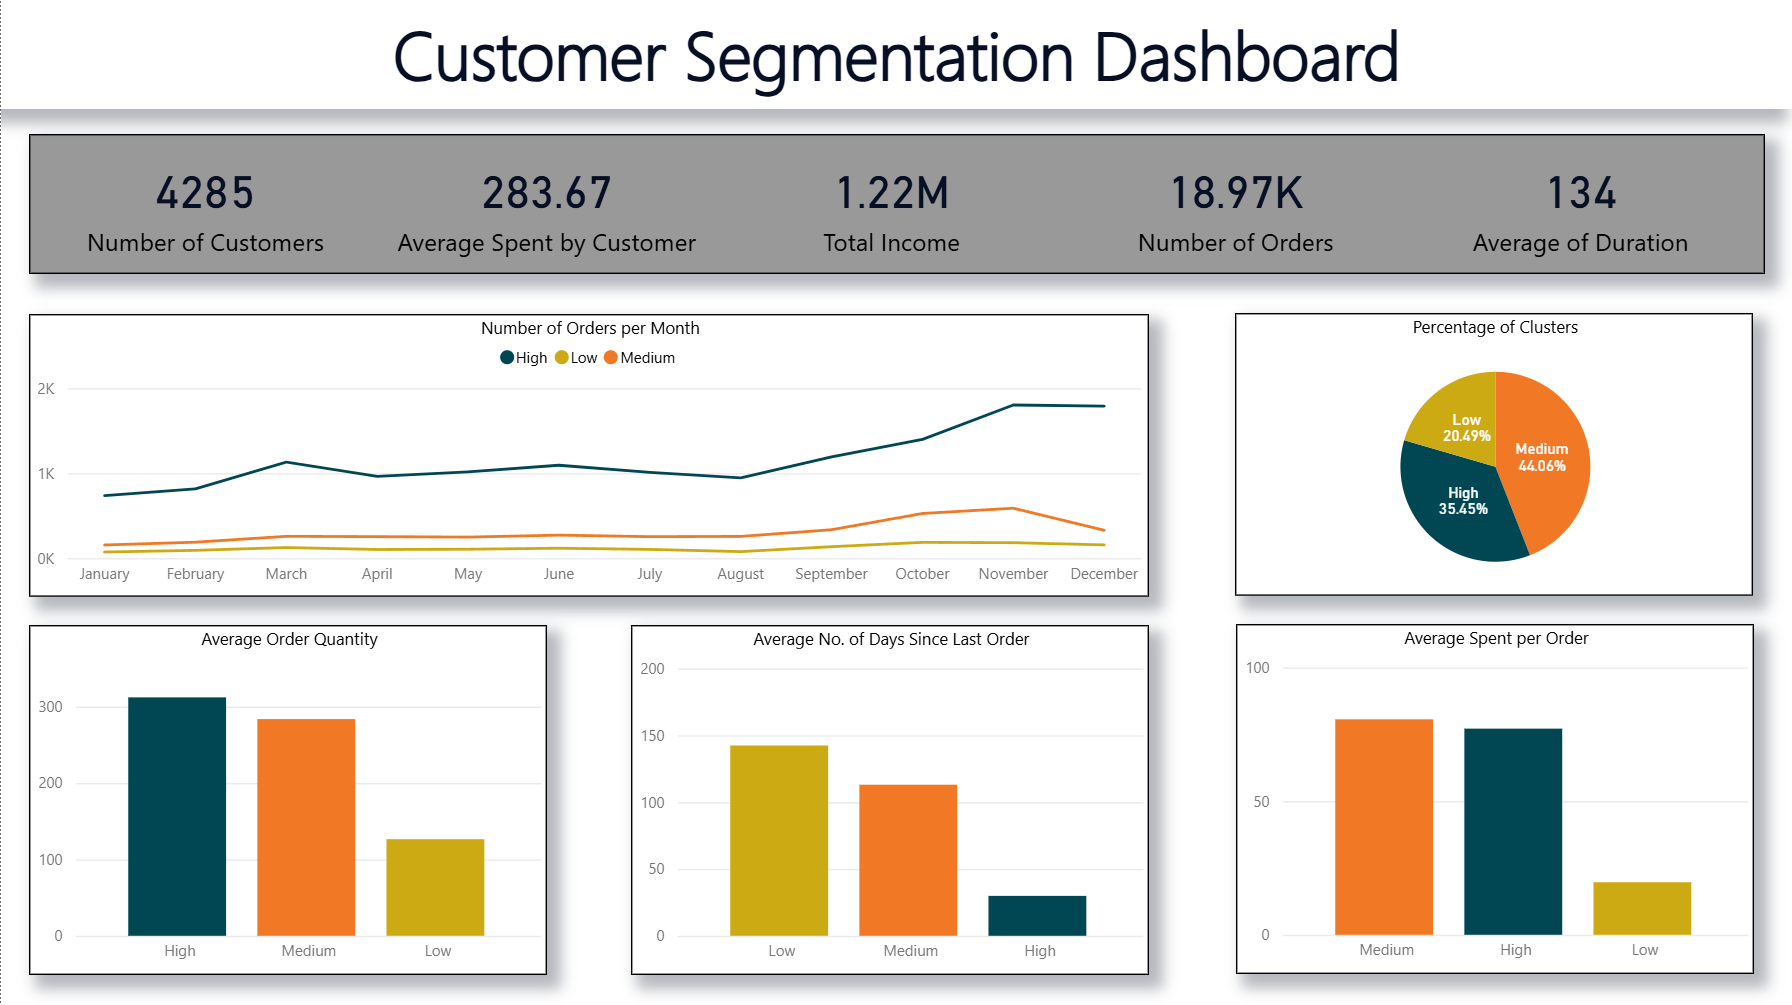

The dashboard page shown, as its layout file describes it:
{"tool":"powerbi","page":{"name":"Segmentation Overview","canvas":[1280,720],"ordinal":0},"visuals":[{"type":"shape","box":[20,96,1240,100],"z":0},{"type":"textbox","box":[0,0,1280,78],"z":1000},{"type":"card","title":"Number of Customers","fields":{"Values":["CountNonNull(customers.Customer ID)"]},"box":[20,96,252,100],"z":2000},{"type":"card","title":"Number of Customers","fields":{"Values":["Avg(customers.TotalSpend)"]},"box":[266,96,248,100],"z":3000},{"type":"card","title":"Number of Customers","fields":{"Values":["Sum(customers.TotalSpend)"]},"box":[512,96,248,100],"z":4000},{"type":"card","title":"Number of Customers","fields":{"Values":["Count(orders.Invoice)"]},"box":[758,96,248,100],"z":5000},{"type":"card","title":"Number of Customers","fields":{"Values":["Avg(customers.Duration)"]},"box":[1004,96,248,100],"z":6000},{"type":"pieChart","title":"Percentage of Clusters","fields":{"Category":["customers.Value"],"Y":["CountNonNull(customers.Customer ID)"]},"box":[881.7,223.3,370,201.7],"z":7000},{"type":"columnChart","title":"Average No. of Days Since Last Order","fields":{"Y":["Avg(customers.Recency)"],"Category":["customers.Value"],"Series":["customers.Value"]},"box":[450,446.7,370,250],"z":8000},{"type":"columnChart","title":"Average Spent per Order","fields":{"Y":["Avg(customers.AvgSpendPerOrder)"],"Category":["customers.Value"],"Series":["customers.Value"]},"box":[882,446,370,250],"z":9000},{"type":"lineChart","title":"Number of Orders per Month","fields":{"Category":["orders.InvoiceDate.Variation.Date Hierarchy.Month"],"Y":["Count(orders.Invoice)"],"Series":["customers.Value"]},"box":[20,224,800,202],"z":10000},{"type":"columnChart","title":"Average Order Quantity","fields":{"Category":["customers.Value"],"Y":["Avg(customers.AvgQuantityPerOrder)"],"Series":["customers.Value"]},"box":[20,446.7,370,250],"z":11000}]}

Visuals, with their boxes in screenshot pixels (x1, y1, x2, y2), scaled from the page's 1280x720 canvas onto the 1792x1005 screenshot:
shape: {"x1": 28, "y1": 134, "x2": 1764, "y2": 274}
textbox: {"x1": 0, "y1": 0, "x2": 1791, "y2": 109}
"Number of Customers" card: {"x1": 28, "y1": 134, "x2": 381, "y2": 274}
"Number of Customers" card: {"x1": 372, "y1": 134, "x2": 720, "y2": 274}
"Number of Customers" card: {"x1": 717, "y1": 134, "x2": 1064, "y2": 274}
"Number of Customers" card: {"x1": 1061, "y1": 134, "x2": 1408, "y2": 274}
"Number of Customers" card: {"x1": 1406, "y1": 134, "x2": 1753, "y2": 274}
"Percentage of Clusters" pieChart: {"x1": 1234, "y1": 312, "x2": 1752, "y2": 593}
"Average No. of Days Since Last Order" columnChart: {"x1": 630, "y1": 624, "x2": 1148, "y2": 972}
"Average Spent per Order" columnChart: {"x1": 1235, "y1": 623, "x2": 1753, "y2": 972}
"Number of Orders per Month" lineChart: {"x1": 28, "y1": 313, "x2": 1148, "y2": 595}
"Average Order Quantity" columnChart: {"x1": 28, "y1": 624, "x2": 546, "y2": 972}
